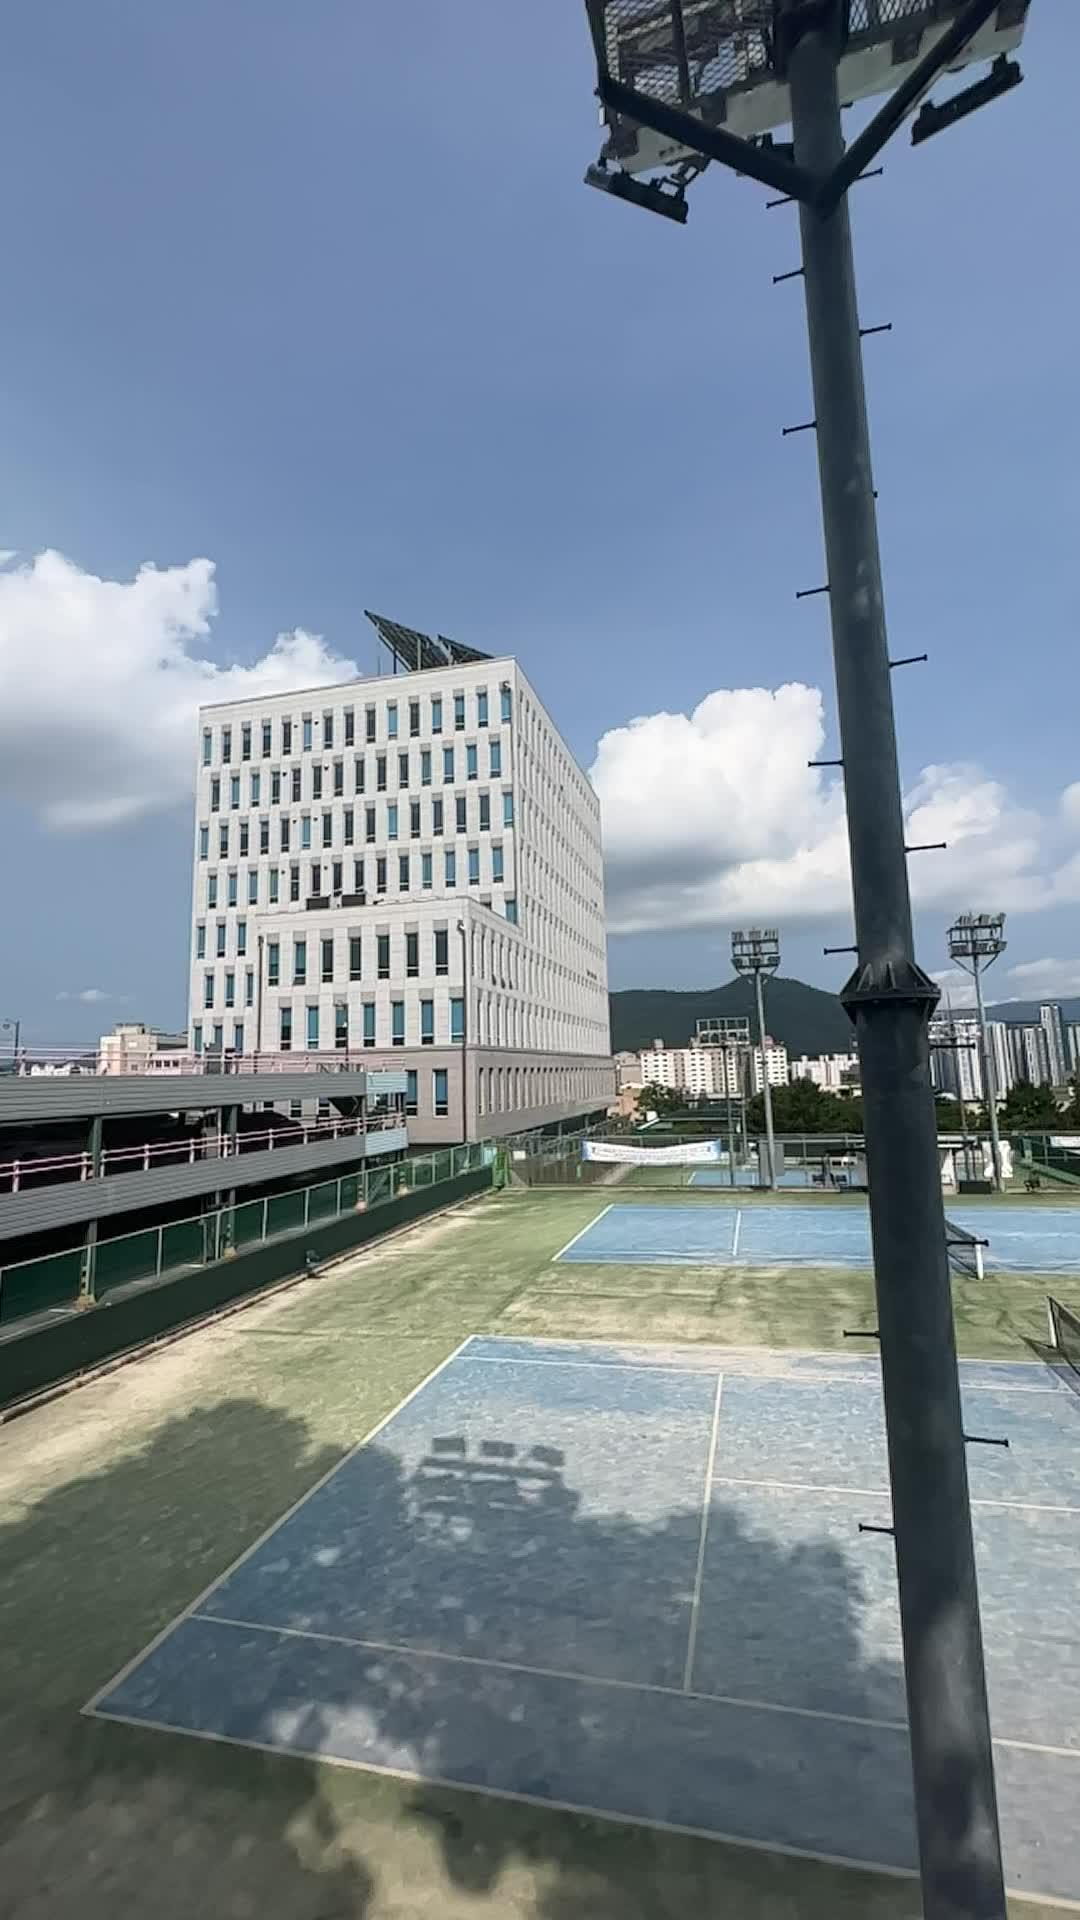building: (150, 592, 633, 1080)
